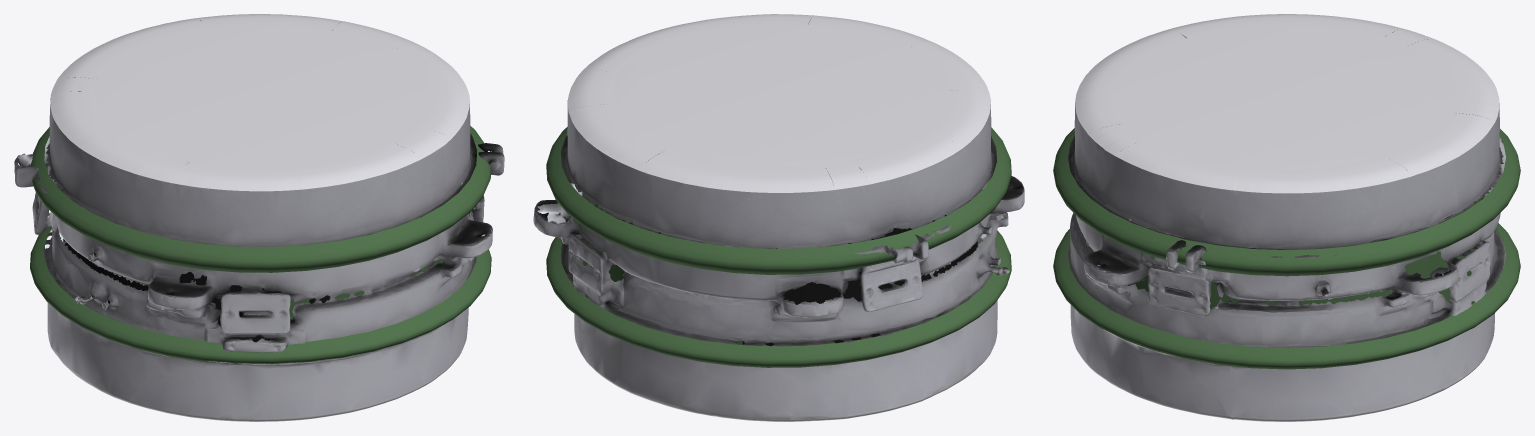
The model's file is obj1_Radio_Fuse.fbx.
3 renders of one model, left to right at view 1: azimuth 30°, elevation 25°; view 2: azimuth 150°, elevation 25°; view 3: azimuth 270°, elevation 25°, orthographic.
Visible parts, largest first — view 1: Radio_Fuse, Cylinder002, Cylinder001; view 2: Radio_Fuse, Cylinder002, Cylinder001; view 3: Radio_Fuse, Cylinder002.
Part boxes in pixels (bbox=[...]): Radio_Fuse: bbox=[14, 14, 504, 421]; Cylinder002: bbox=[30, 126, 491, 364]; Cylinder001: bbox=[63, 239, 329, 342]; Radio_Fuse: bbox=[533, 14, 1024, 421]; Cylinder002: bbox=[546, 127, 1011, 367]; Cylinder001: bbox=[655, 215, 977, 346]; Radio_Fuse: bbox=[1068, 14, 1505, 421]; Cylinder002: bbox=[1053, 128, 1520, 369].
Bounding box in the file's own units: 3.12 × 1.75 × 3.07.
